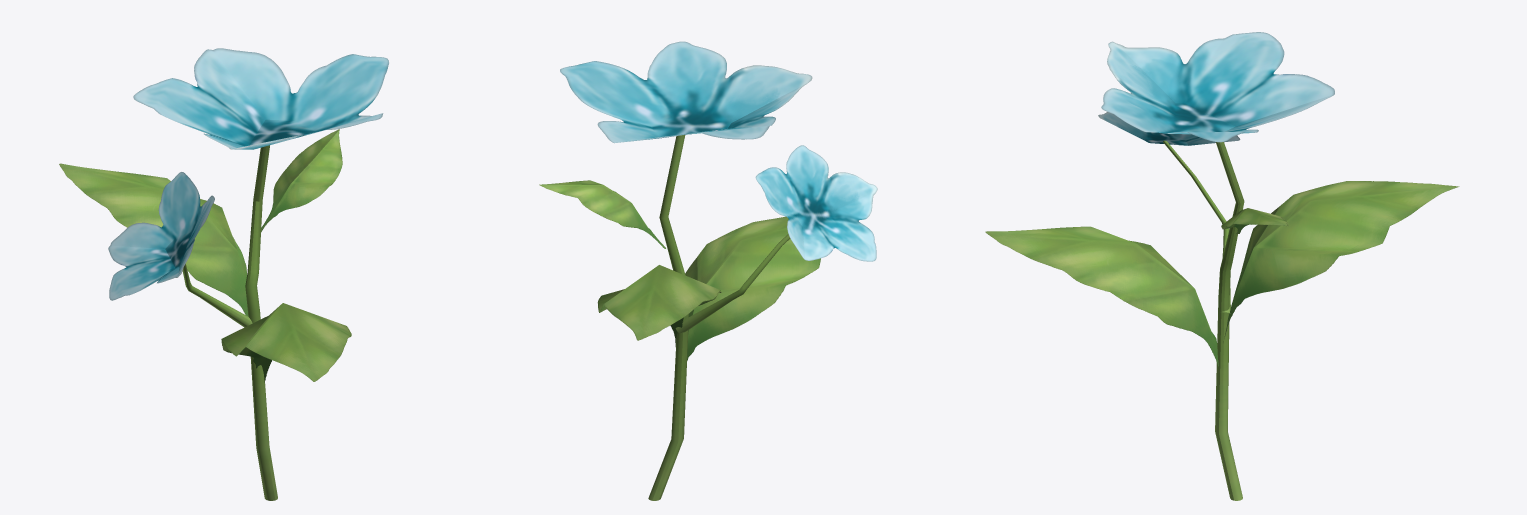
Rendered from bunga 1_rev1.fbx.
3 views of the same model, side by side, from view 1: azimuth 30°, elevation 25°; view 2: azimuth 150°, elevation 25°; view 3: azimuth 270°, elevation 25° (orthographic). The views are drawn at different scales.
Visible parts, largest first — view 1: bunga biru 2.Kelopak1, bunga biru 2.Daun2, bunga biru 2.Kelopak2, bunga biru 2.Daun3, bunga biru 2.Batang1, bunga biru 2.Daun1, bunga biru 2.Batang2; view 2: bunga biru 2.Kelopak1, bunga biru 2.Kelopak2, bunga biru 2.Daun3, bunga biru 2.Daun2, bunga biru 2.Batang1, bunga biru 2.Daun1, bunga biru 2.Batang2; view 3: bunga biru 2.Kelopak1, bunga biru 2.Daun2, bunga biru 2.Daun3, bunga biru 2.Batang1, bunga biru 2.Kelopak2, bunga biru 2.Daun1, bunga biru 2.Batang2.
Part boxes in pixels (x1,y1,x2,y2): bunga biru 2.Kelopak1: [133, 48, 388, 149]; bunga biru 2.Daun2: [59, 163, 248, 316]; bunga biru 2.Kelopak2: [108, 172, 214, 300]; bunga biru 2.Daun3: [221, 303, 351, 382]; bunga biru 2.Batang1: [245, 145, 277, 500]; bunga biru 2.Daun1: [261, 129, 342, 232]; bunga biru 2.Batang2: [182, 264, 252, 327]; bunga biru 2.Kelopak1: [560, 41, 812, 143]; bunga biru 2.Kelopak2: [755, 145, 877, 261]; bunga biru 2.Daun3: [685, 216, 820, 360]; bunga biru 2.Daun2: [597, 265, 721, 346]; bunga biru 2.Batang1: [648, 135, 688, 500]; bunga biru 2.Daun1: [539, 180, 665, 248]; bunga biru 2.Batang2: [675, 234, 790, 333]; bunga biru 2.Kelopak1: [1101, 32, 1334, 142]; bunga biru 2.Daun2: [1223, 181, 1459, 342]; bunga biru 2.Daun3: [985, 226, 1218, 366]; bunga biru 2.Batang1: [1215, 142, 1244, 500]; bunga biru 2.Kelopak2: [1098, 112, 1240, 145]; bunga biru 2.Daun1: [1221, 208, 1288, 233]; bunga biru 2.Batang2: [1163, 140, 1230, 313].
Size of the model in its own units: 116 by 139 by 178.
